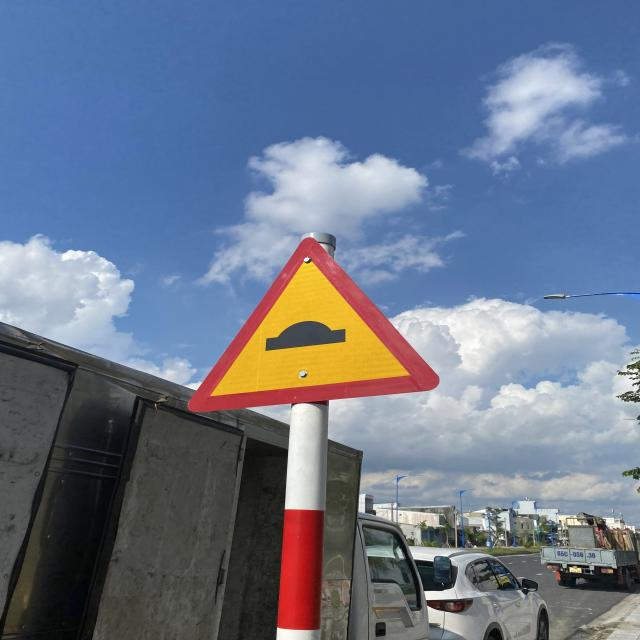Duong_Cong_Ben_Phai: (188, 236, 439, 410)
